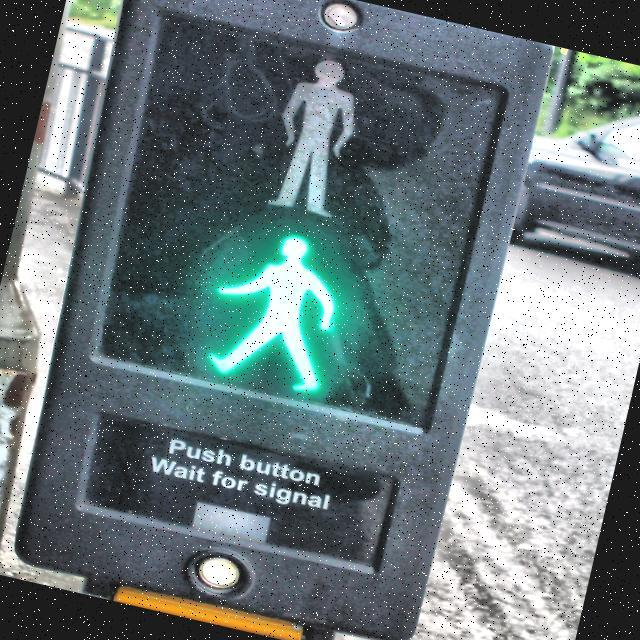green_light: (191, 214, 367, 403)
